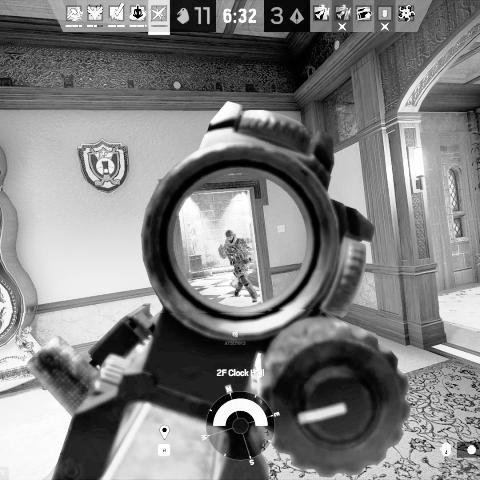Character: (218, 229, 259, 303)
Friend_label: (222, 329, 246, 346)
Head: (225, 230, 235, 244)
